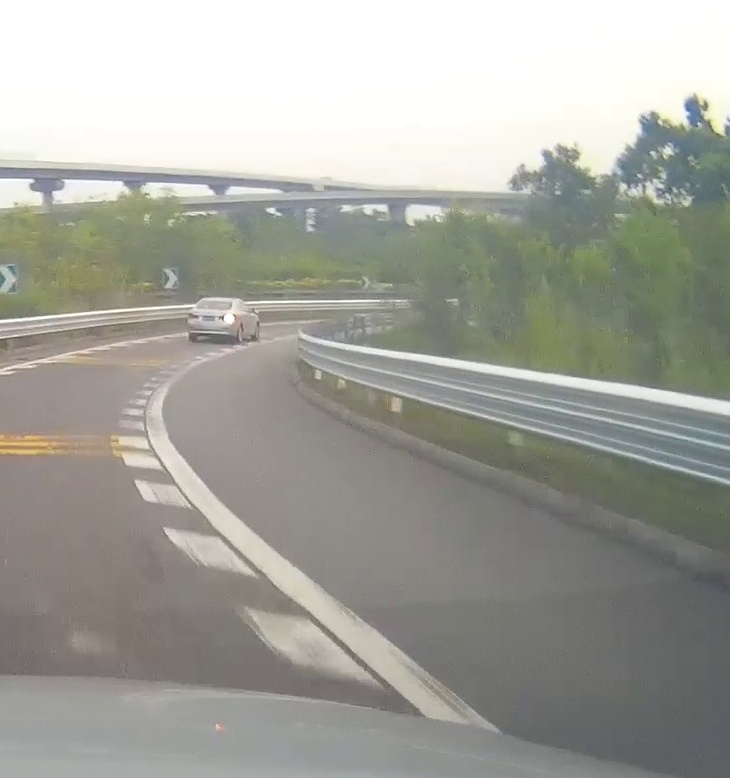L_light: (188, 313, 199, 320)
R_light: (220, 314, 235, 321)
T_light: (211, 300, 218, 303)
day-right: (186, 296, 238, 342)
